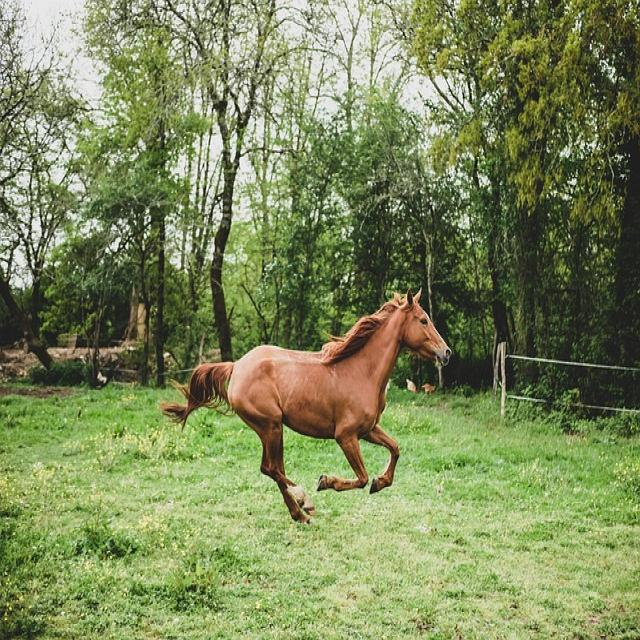Herbivorous: (165, 294, 454, 526)
